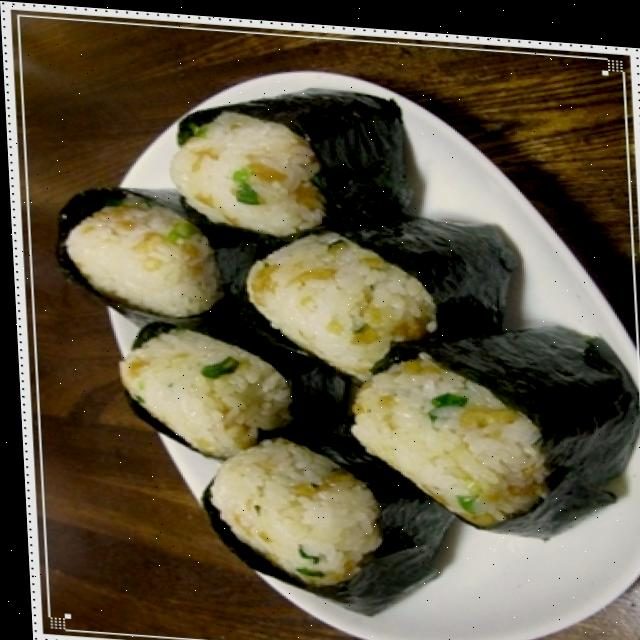米饭主食: (33, 48, 640, 640)
